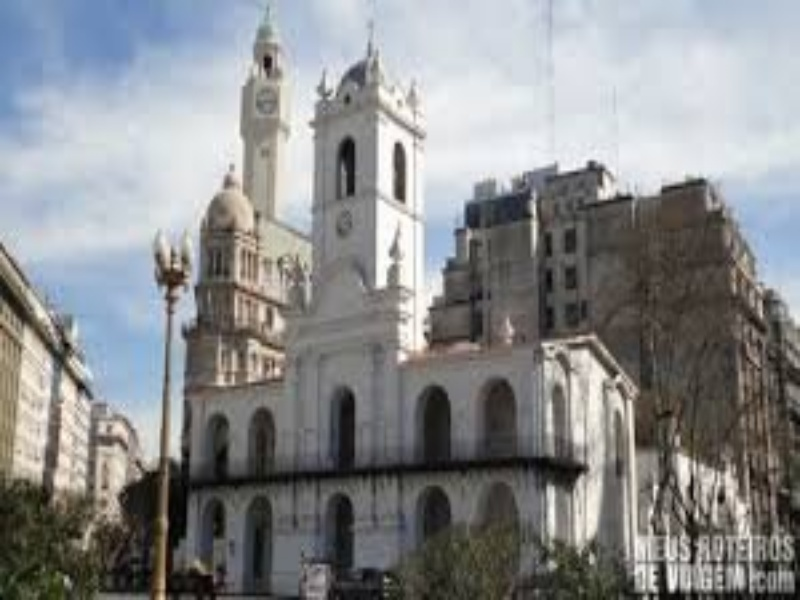cabildo: (183, 18, 588, 600)
